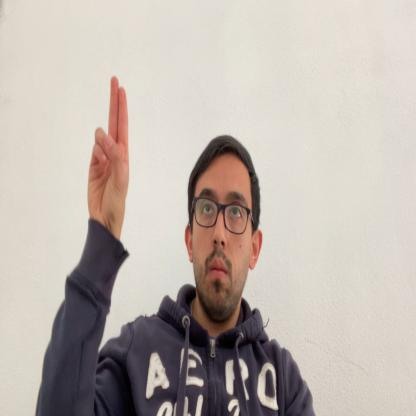U: (87, 74, 130, 236)
